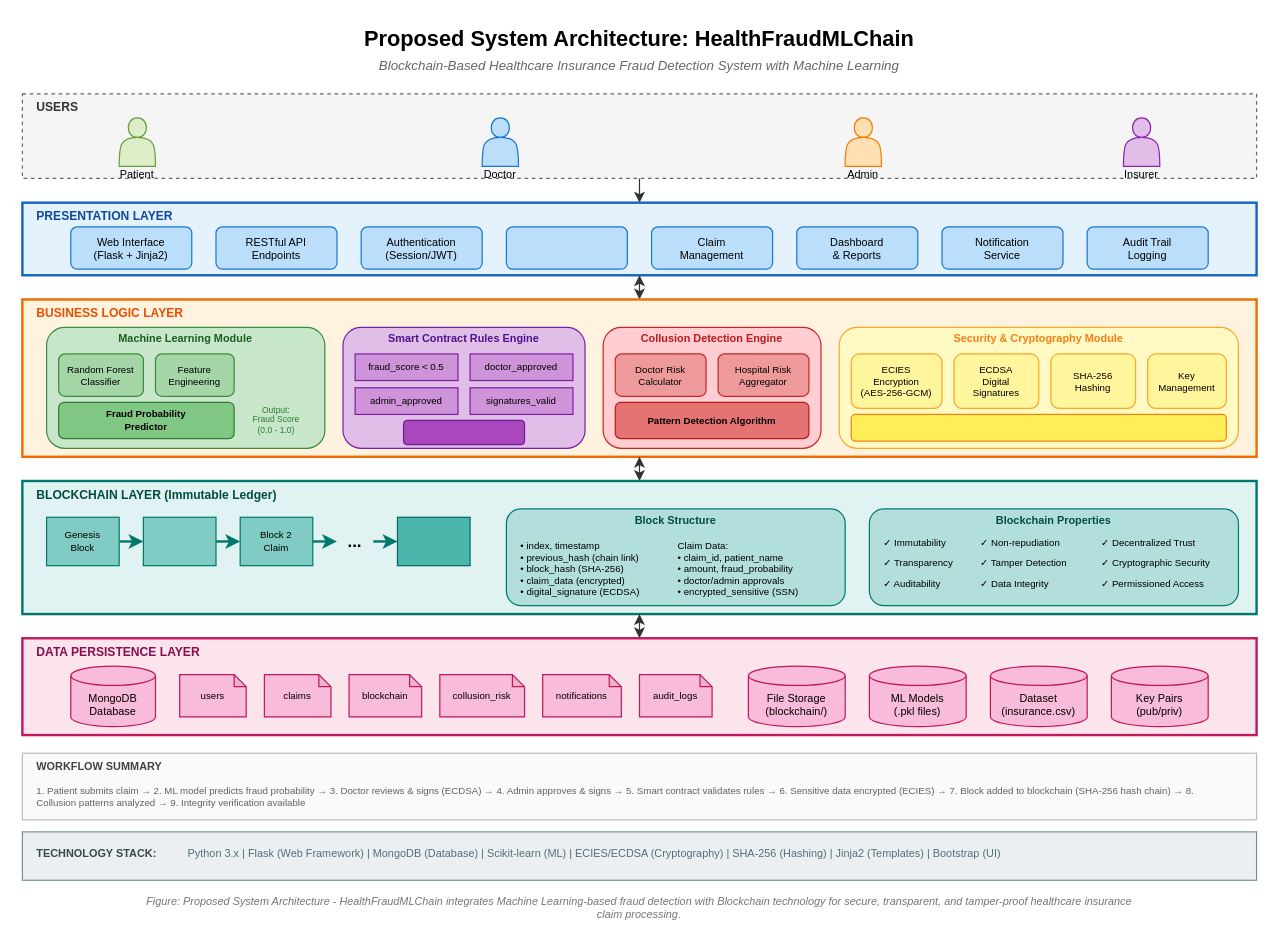
Some shapes in this 1278 by 943 pixel diagram are drawn without their labels. The box of each missing label's shape, as (x1, y1, x2, y2) in pixels:
Block 1 Claim: (142, 516, 216, 566)
Block N Latest: (396, 516, 470, 566)
Blockchain Gate ✓: (402, 419, 525, 445)
Blockchain Integrity Verification API: (850, 413, 1226, 441)
Role-Based Access Control: (505, 226, 627, 269)
